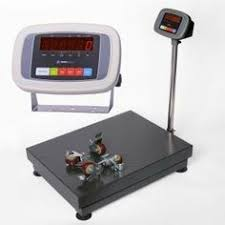Industrial Scale: (26, 8, 194, 218), (11, 23, 123, 115)
